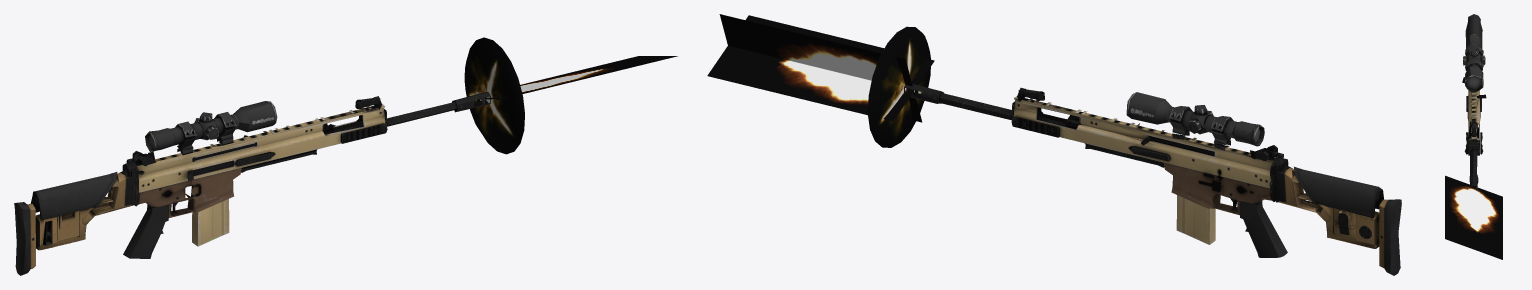
The model's file is SCAR-20_TP.glb.
3 views of the same model, side by side, from view 1: azimuth 30°, elevation 25°; view 2: azimuth 150°, elevation 25°; view 3: azimuth 270°, elevation 25° (orthographic). The views are drawn at different scales.
Visible parts, largest first — view 1: SCAR-20_Decimated, MuzzleFlash; view 2: SCAR-20_Decimated, MuzzleFlash; view 3: MuzzleFlash, SCAR-20_Decimated.
Boxes of the visible parts, bbox=[...] form: SCAR-20_Decimated: bbox=[14, 91, 490, 275]; MuzzleFlash: bbox=[464, 37, 677, 154]; SCAR-20_Decimated: bbox=[904, 84, 1401, 275]; MuzzleFlash: bbox=[707, 14, 934, 147]; MuzzleFlash: bbox=[1445, 175, 1502, 259]; SCAR-20_Decimated: bbox=[1462, 14, 1486, 189].
Size of the model in its own units: 1.54 by 0.2999 by 0.2486.
2 materials, 2 textured.
